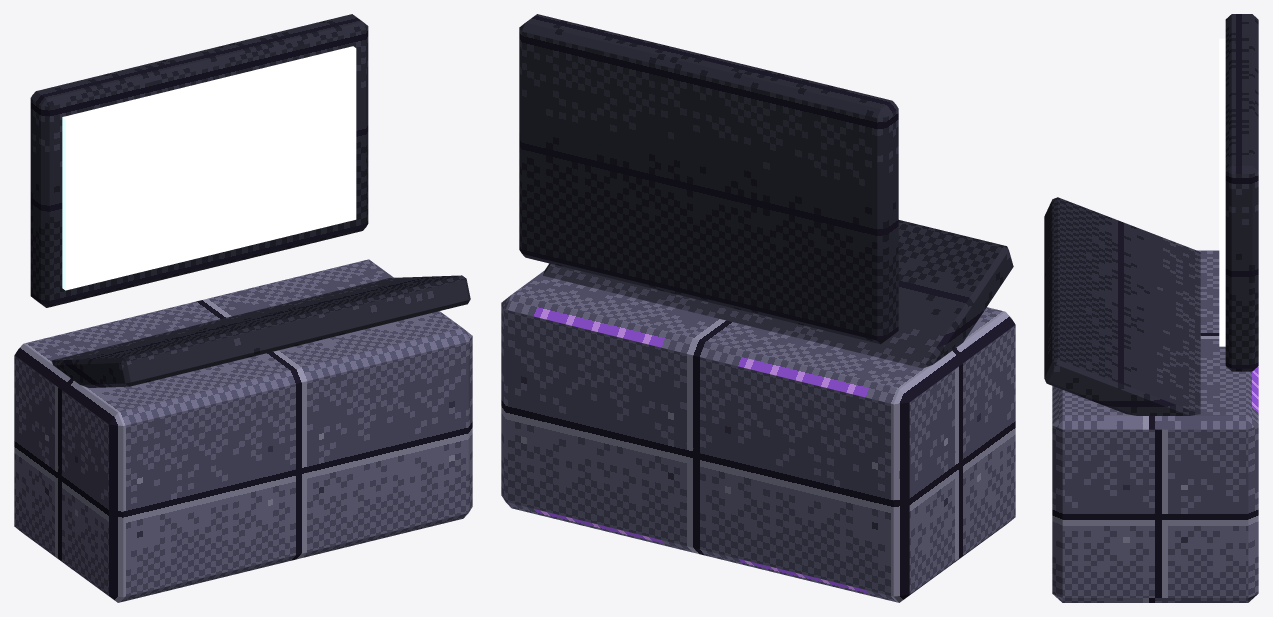
Rendered from rush_console.glb.
The picture shows the model from 3 angles, left to right: view 1: azimuth 30°, elevation 25°; view 2: azimuth 150°, elevation 25°; view 3: azimuth 270°, elevation 25°; orthographic projection. The views are drawn at different scales.
Parts seen in each view (by area): view 1: Console, Glow; view 2: Console; view 3: Console, Glow.
Part boxes in pixels (x1,y1,x2,y2): Console: (14, 14, 472, 602); Glow: (62, 46, 356, 290); Console: (501, 14, 1015, 602); Console: (1044, 14, 1258, 602); Glow: (1219, 38, 1225, 346).
Size of the model in its own units: 2 by 2.3 by 1.04.
6 materials, 2 textured.
